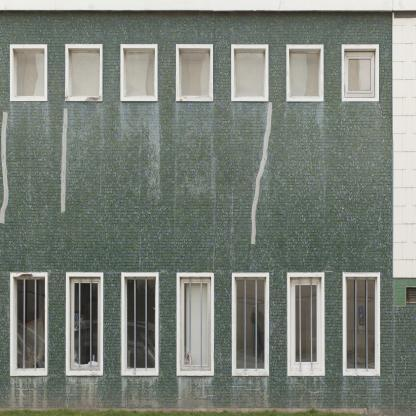Building Outline: (0, 1, 416, 413)
Facade: (0, 1, 416, 413)
Floor: (1, 0, 416, 188)
Floor Slab: (1, 188, 416, 196)
Ground Floor: (1, 196, 416, 412)
Window: (346, 277, 376, 371), (15, 277, 45, 371), (71, 277, 101, 371), (126, 277, 156, 371), (181, 277, 211, 371), (236, 277, 266, 371), (291, 277, 321, 371), (345, 51, 375, 95), (15, 52, 45, 96), (70, 51, 100, 95), (125, 51, 155, 95), (180, 51, 210, 95), (235, 51, 265, 95), (290, 51, 320, 95), (406, 287, 416, 305)
